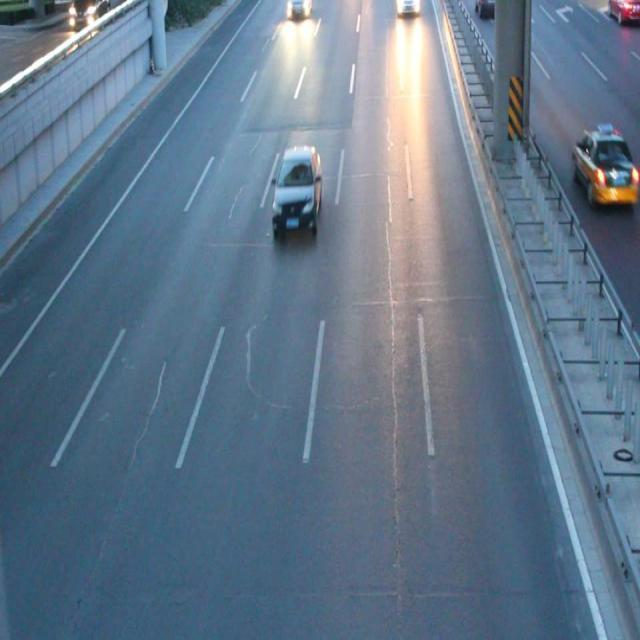car: (571, 128, 640, 204), (272, 144, 322, 228), (285, 1, 311, 18), (474, 1, 497, 19), (395, 1, 420, 12)
